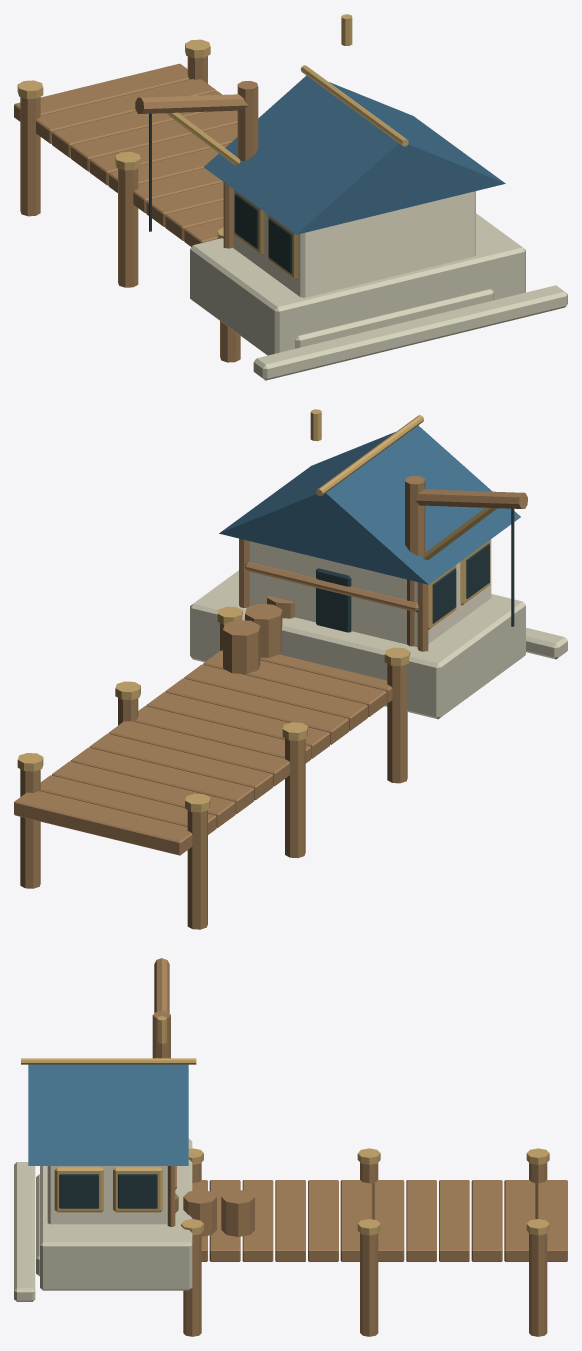
The model's file is level_10.glb.
The picture shows the model from 3 angles, top to bottom: view 1: azimuth 30°, elevation 25°; view 2: azimuth 150°, elevation 25°; view 3: azimuth 270°, elevation 25°; orthographic projection. The views are drawn at different scales.
Visible parts, largest first — view 1: fishing_wharf — level 10; view 2: fishing_wharf — level 10; view 3: fishing_wharf — level 10.
Boxes of the visible parts, box(x1,y1,x2,y2) form: fishing_wharf — level 10: box(14, 14, 567, 380); fishing_wharf — level 10: box(14, 409, 567, 929); fishing_wharf — level 10: box(14, 958, 567, 1336).
Bounding box in the file's own units: 4.53 × 4.14 × 7.26.
